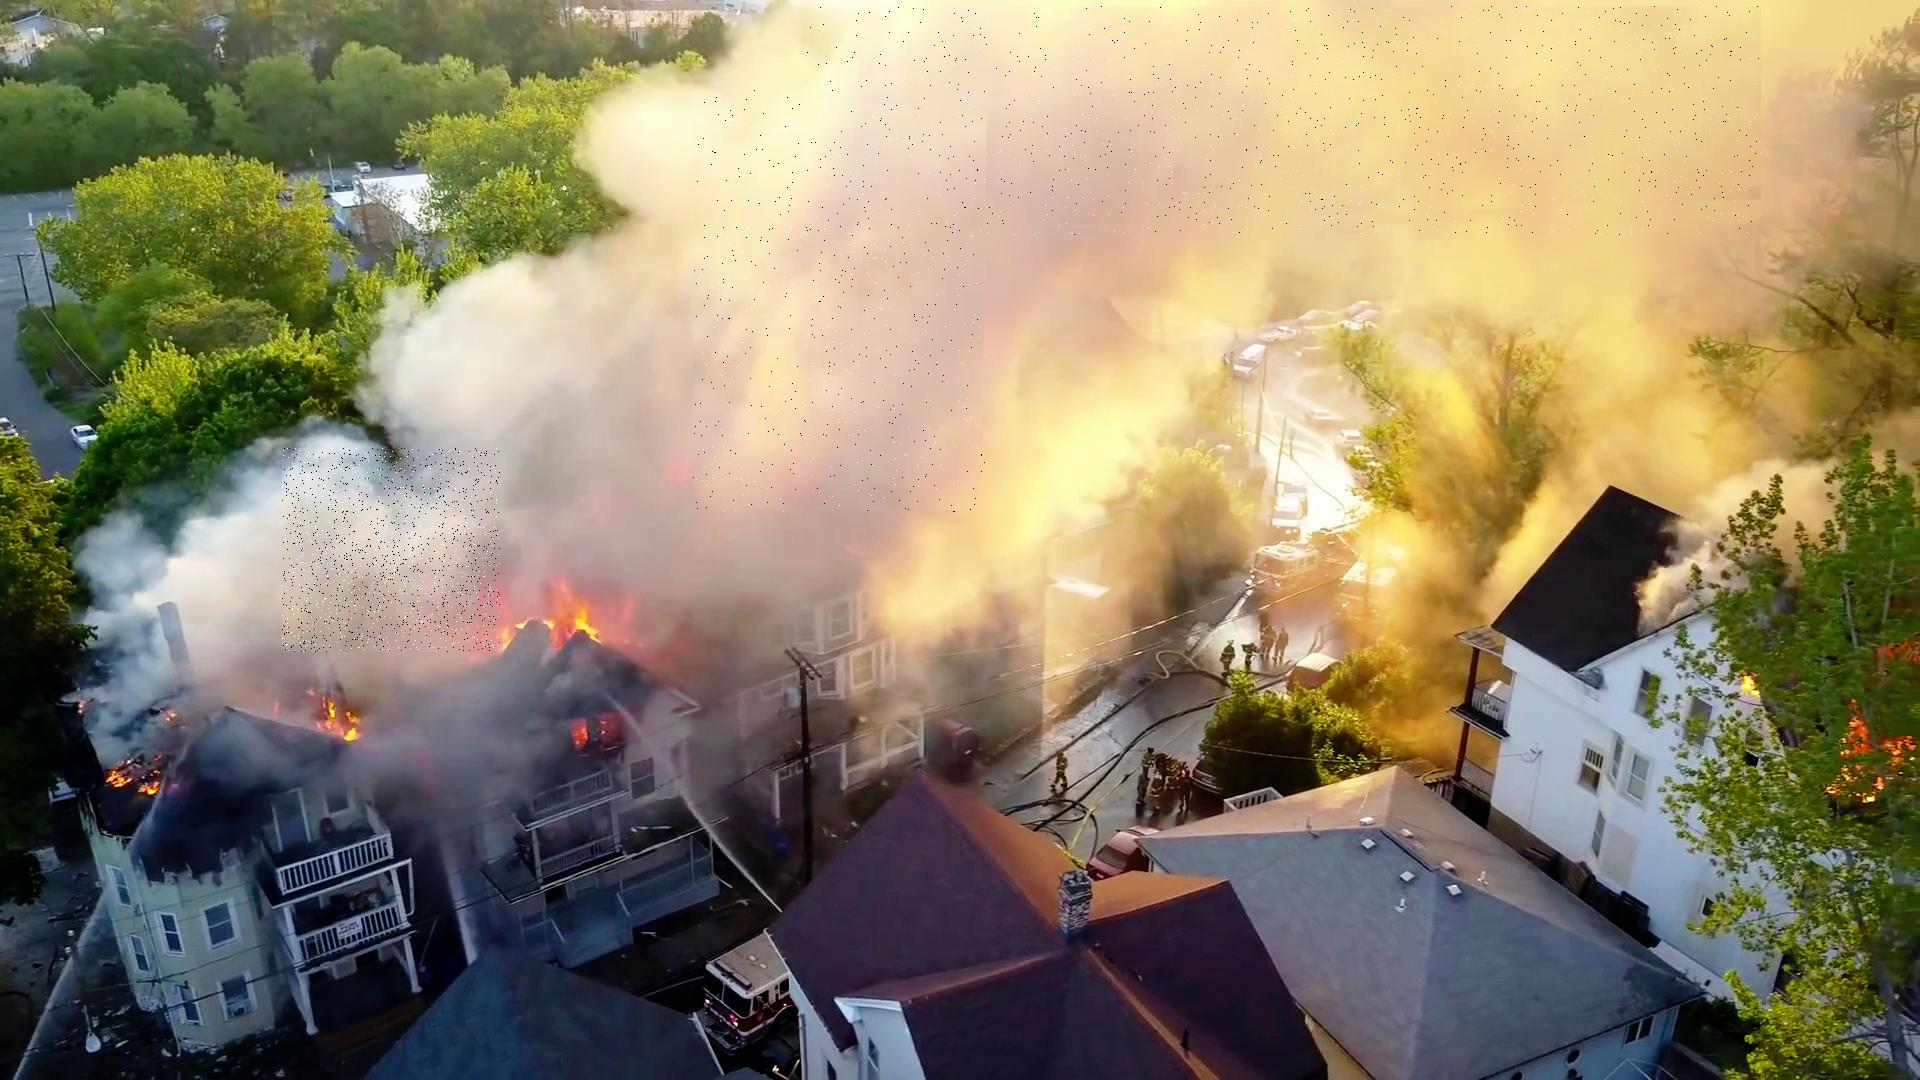smoke: (806, 7, 1760, 235), (694, 91, 988, 513), (284, 448, 501, 653)
